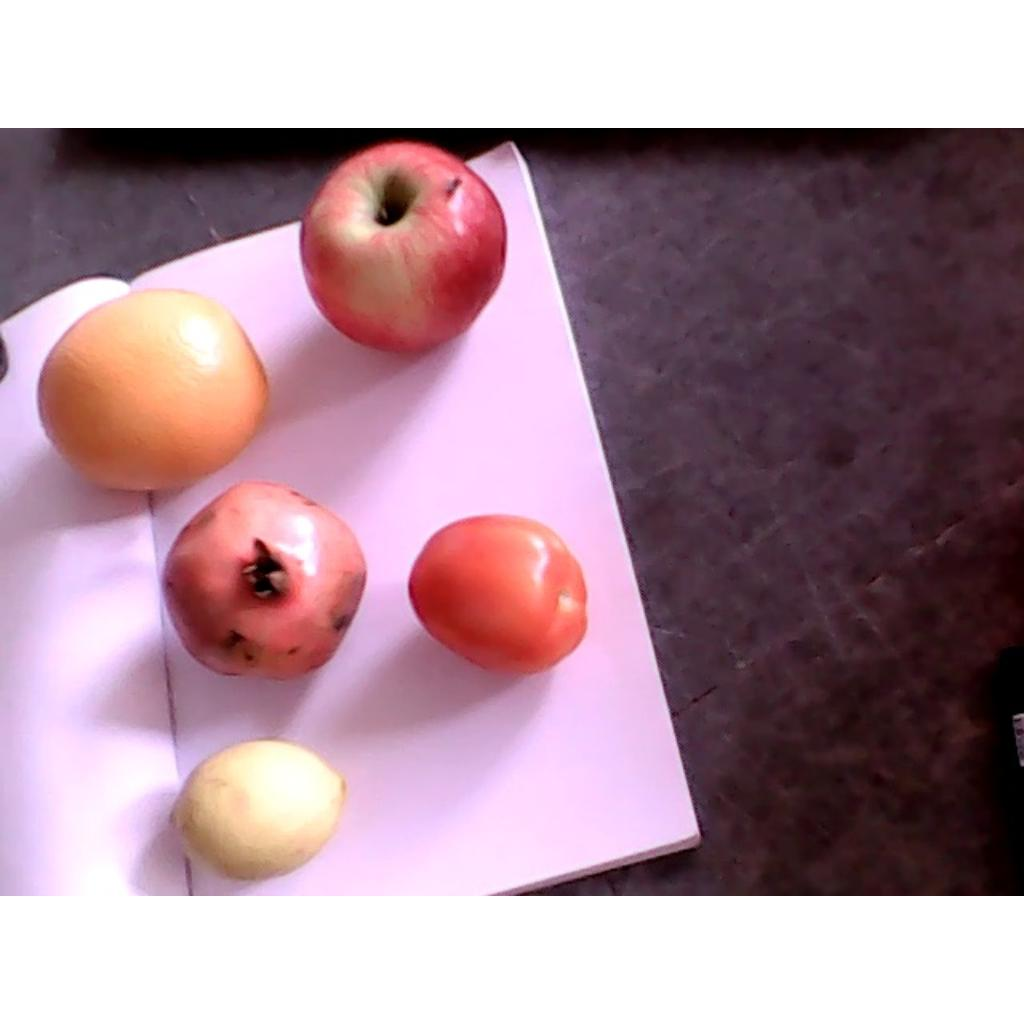apple: (302, 140, 504, 353)
lemon: (167, 738, 343, 879)
orange: (36, 289, 272, 491)
pomegranate: (163, 477, 367, 678)
tomato: (408, 514, 588, 676)
